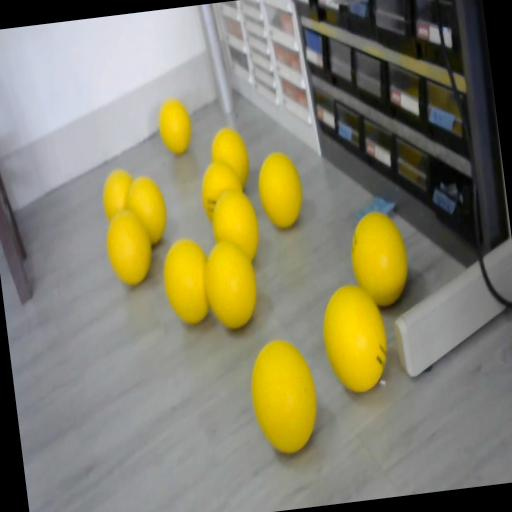FUEL: (245, 334, 323, 456), (316, 279, 393, 396), (346, 208, 413, 309), (158, 236, 214, 326), (254, 150, 306, 232), (102, 206, 154, 288), (208, 187, 262, 265), (208, 125, 252, 190), (156, 96, 194, 156), (100, 168, 138, 222)
